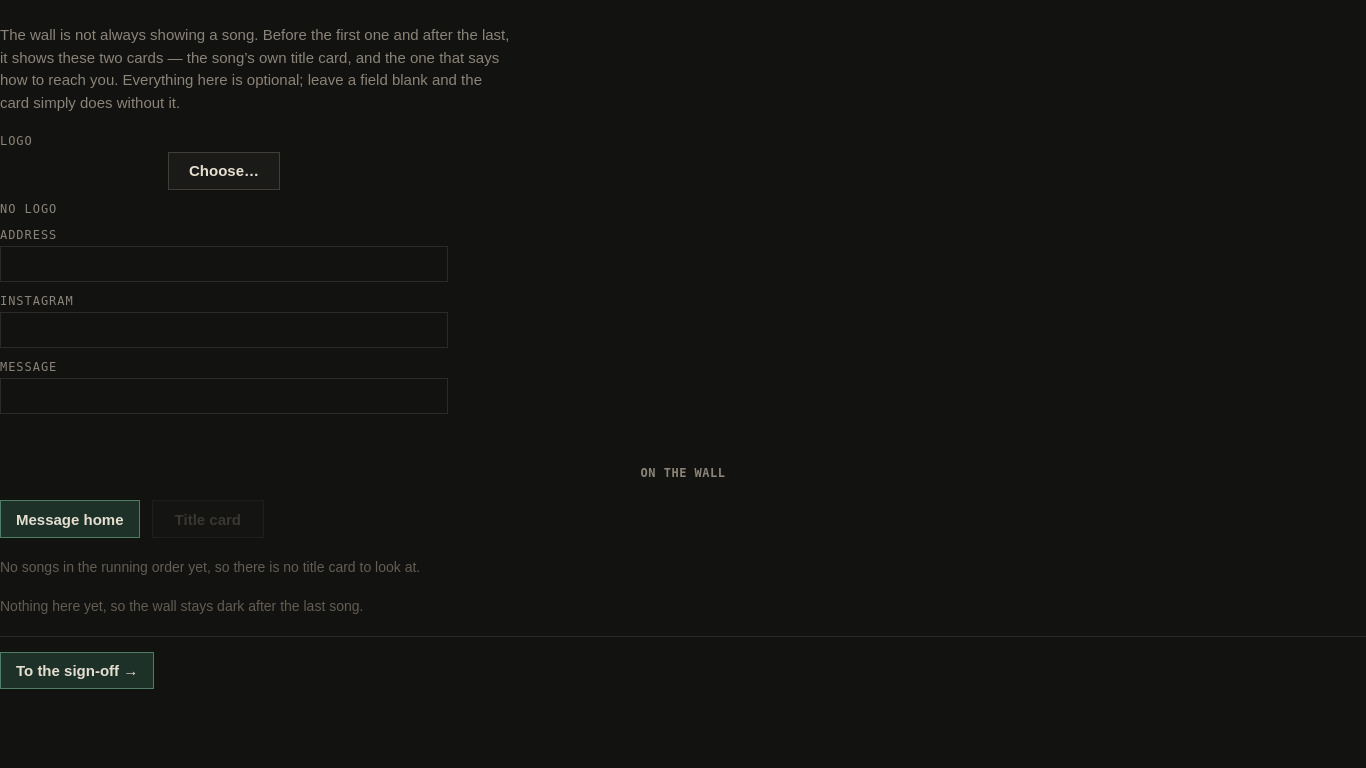
Test: the logo picker inherits the visuals-folder guard › refuses a file outside it in a popup, and leaves the field empty
Click the button with test id "gig-cards-logo-pick" at (224, 171), box [168,152,280,190]
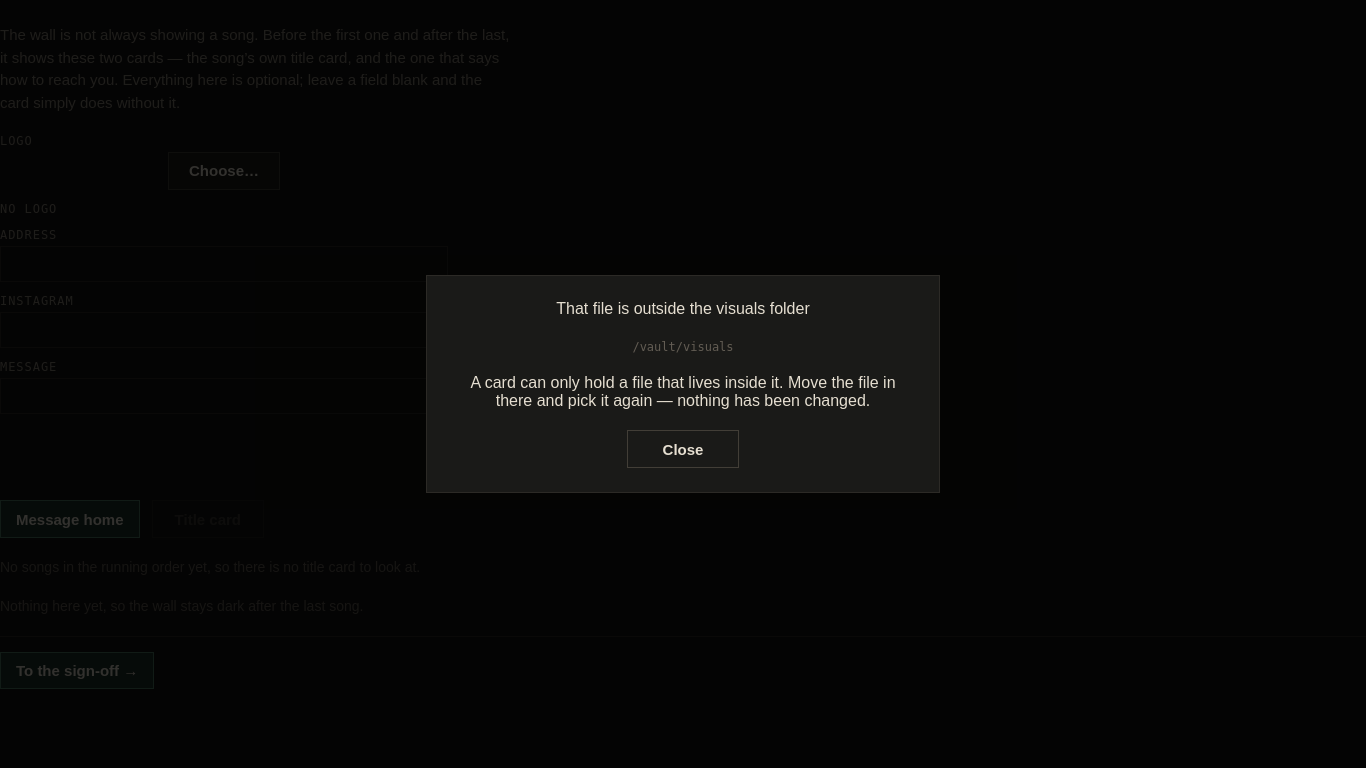
Check: the element with test id "gig-cards-outside-popup" shows "/vault/visuals", box [632,340,734,354]
